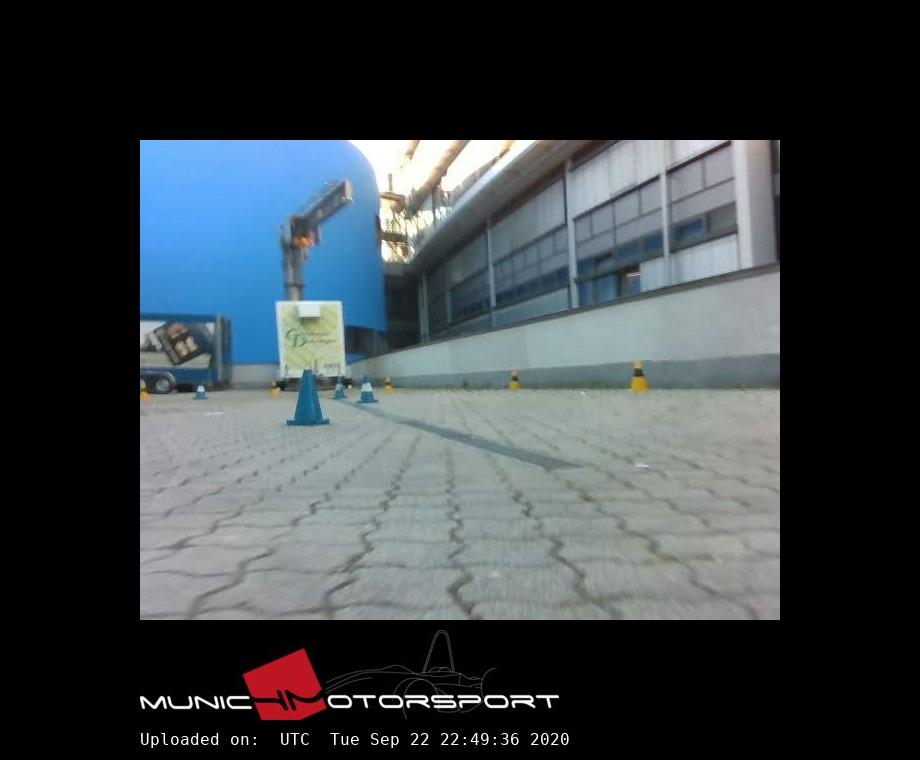blue_cone: (287, 370, 330, 425), (358, 375, 378, 403), (332, 378, 348, 399), (194, 382, 208, 400)
yellow_cone: (629, 361, 649, 392), (508, 369, 521, 389), (383, 376, 394, 392), (270, 380, 279, 394), (140, 383, 149, 397)
